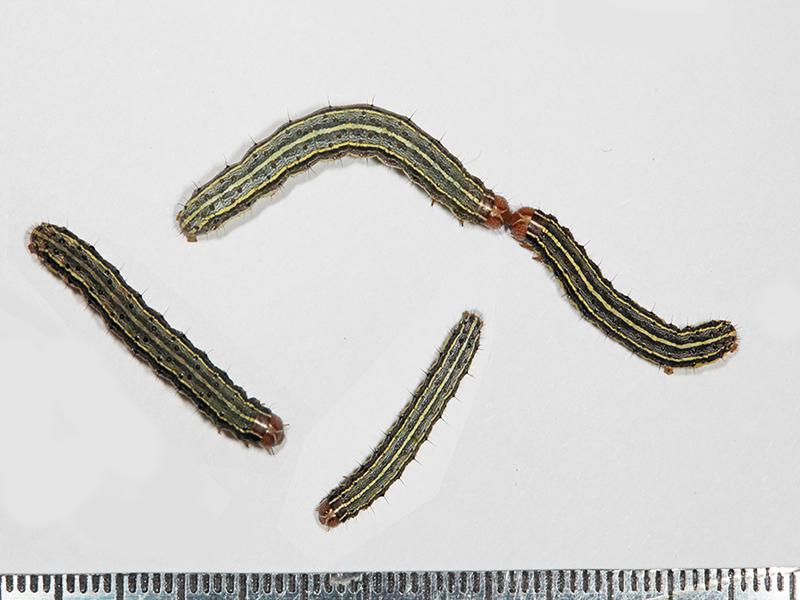Rice_horned_caterpillar: (45, 222, 293, 494), (173, 92, 507, 266), (316, 294, 492, 534), (517, 208, 748, 373)
